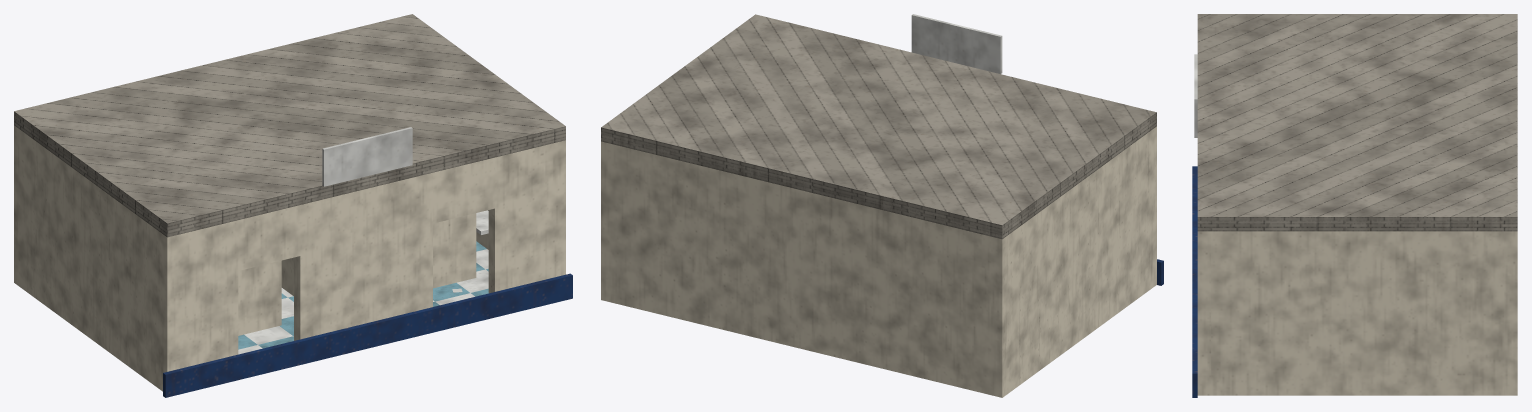
File: Restroom.fbx
3 renders of one model, left to right at view 1: azimuth 30°, elevation 25°; view 2: azimuth 150°, elevation 25°; view 3: azimuth 270°, elevation 25°, orthographic. The views are drawn at different scales.
Parts seen in each view (by area): view 1: Roof_Sign, Walls, Floor; view 2: Walls, Roof_Sign; view 3: Roof_Sign, Walls.
Part boxes in pixels (left/top/right/bottom): Roof_Sign: left=14, top=14, right=572, bottom=397; Walls: left=14, top=125, right=565, bottom=391; Floor: left=238, top=241, right=488, bottom=354; Walls: left=601, top=126, right=1156, bottom=397; Roof_Sign: left=601, top=14, right=1163, bottom=285; Roof_Sign: left=1192, top=14, right=1517, bottom=397; Walls: left=1197, top=231, right=1517, bottom=395.
Bounding box in the file's own units: 9.2 × 4.5 × 6.1.
